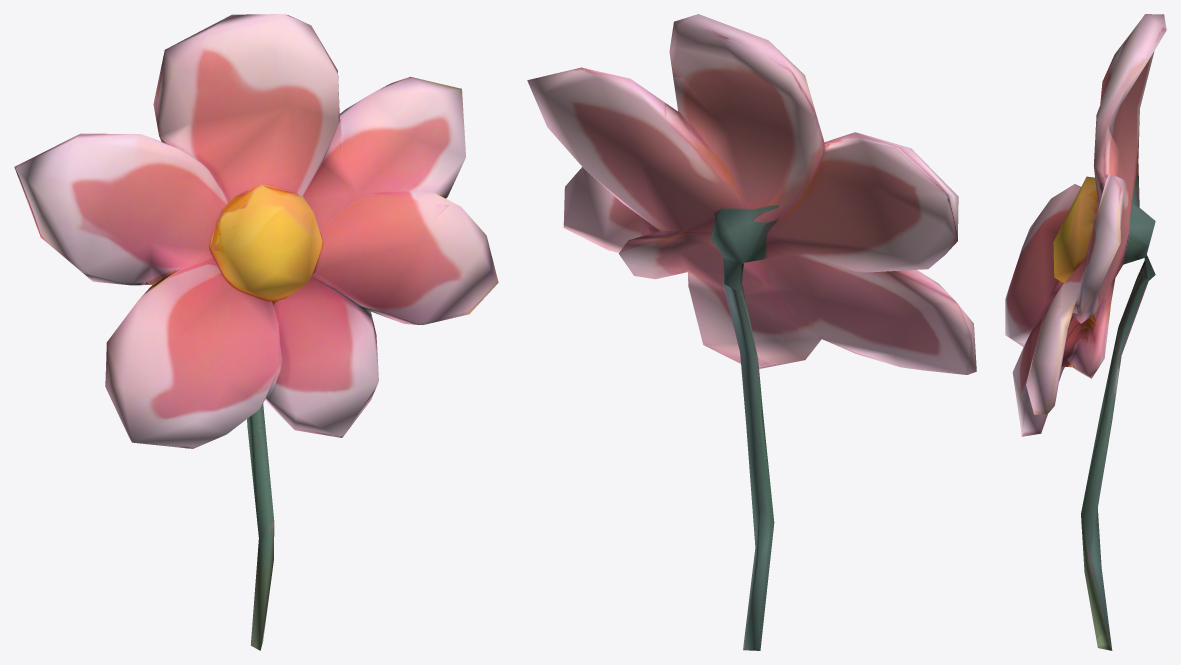
Rendered from flower-bloom.glb.
The picture shows the model from 3 angles, left to right: view 1: azimuth 30°, elevation 25°; view 2: azimuth 150°, elevation 25°; view 3: azimuth 270°, elevation 25°; orthographic projection. The views are drawn at different scales.
Bounding box in the file's own units: 1.46 × 2.01 × 0.4719.
1 material, 1 textured.
